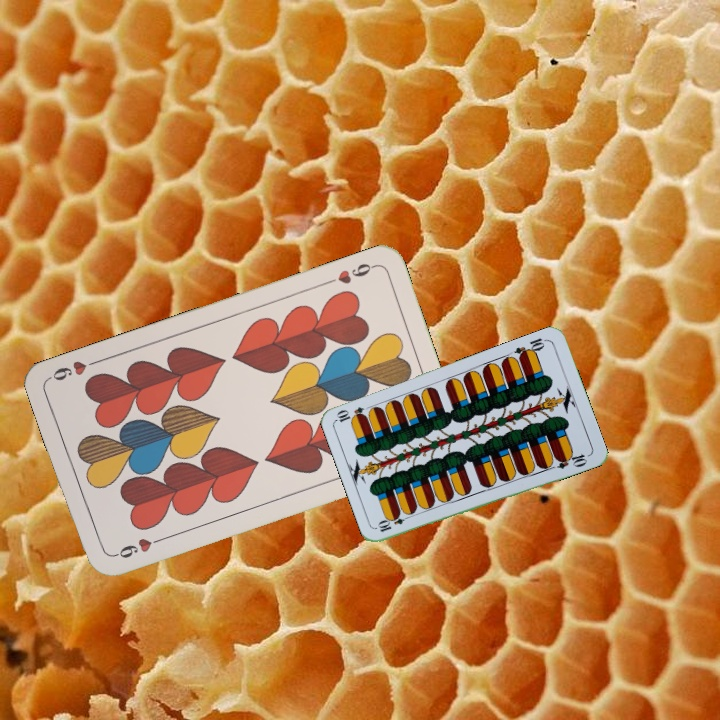E10: (510, 334, 550, 362), (374, 510, 414, 535)
H9: (321, 259, 379, 287), (109, 533, 166, 561)
